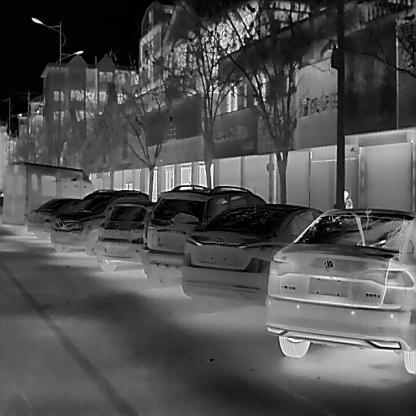car: (264, 208, 416, 374), (180, 203, 322, 316), (140, 182, 266, 290), (51, 188, 152, 256), (1, 161, 95, 232), (95, 201, 157, 272), (25, 198, 86, 242)
